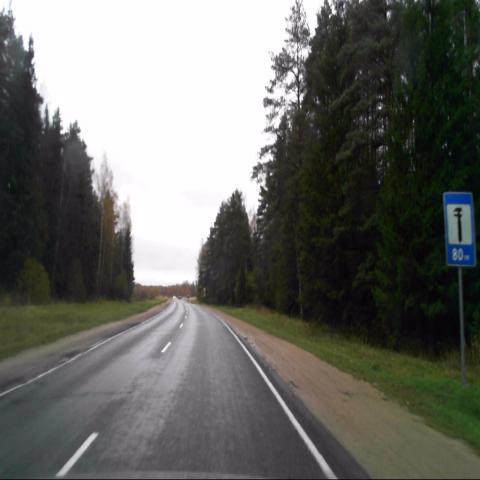7_4: (443, 192, 476, 268)
